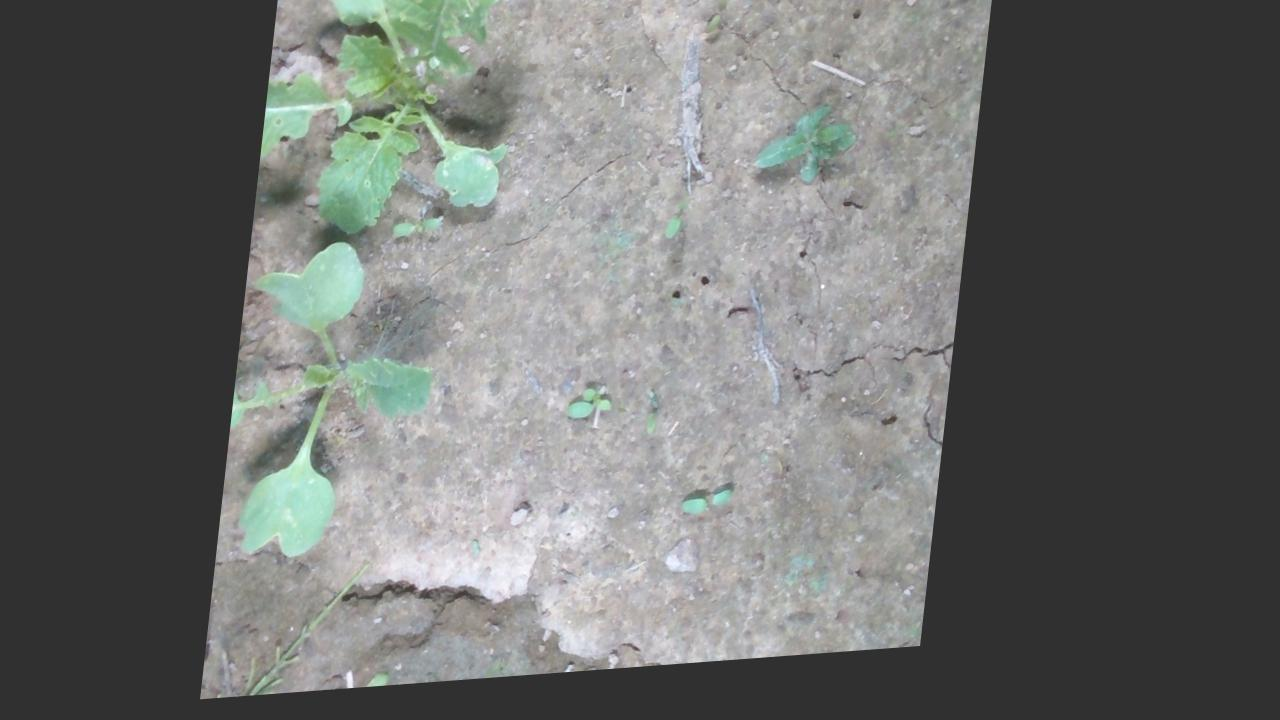weed: (691, 501, 745, 531), (800, 0, 850, 2)
